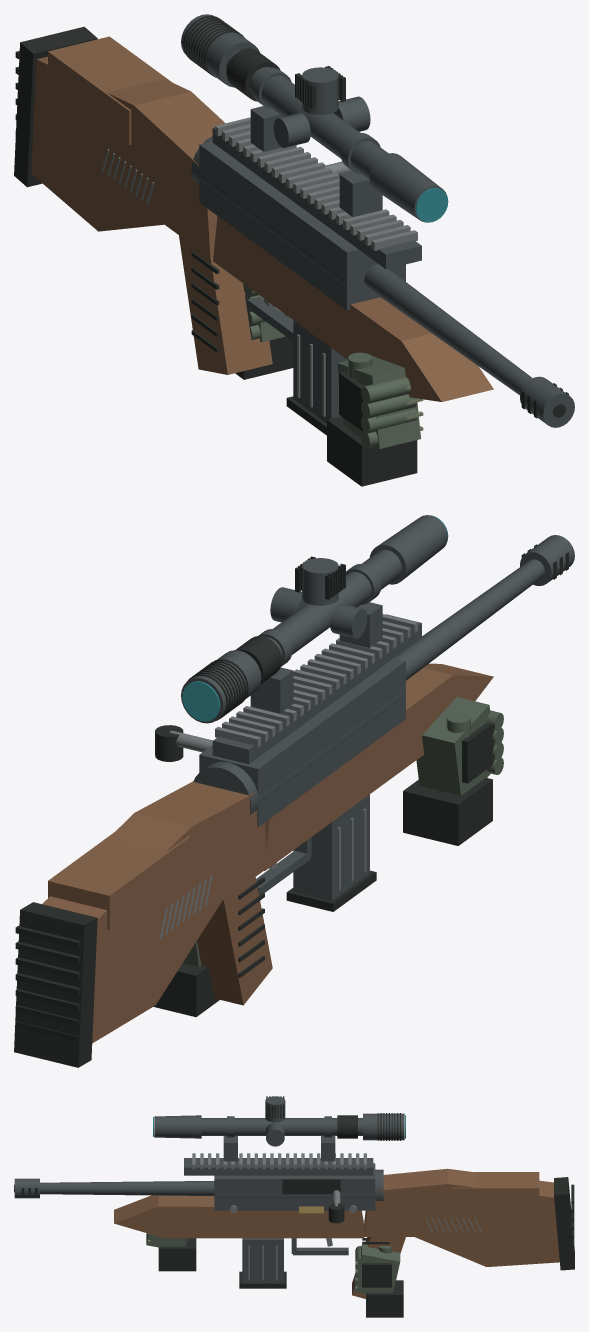
Rendered from ranger.glb.
3 views of the same model, one above another, from view 1: azimuth 30°, elevation 25°; view 2: azimuth 150°, elevation 25°; view 3: azimuth 270°, elevation 25° (orthographic). The views are drawn at different scales.
Parts seen in each view (by area): view 1: static_batch_0_3, static_batch_0_0, static_batch_102_0, static_batch_0_1, static_batch_154_6, static_batch_0_2, static_batch_154_2, magazine_body, static_batch_102_2, turret_elevation, zoom_ring, static_batch_141_2 (+5 smaller); view 2: static_batch_0_3, static_batch_0_0, static_batch_0_2, static_batch_102_0, static_batch_0_1, static_batch_154_2, static_batch_154_6, magazine_body, static_batch_141_2, static_batch_102_2, turret_elevation, lens_rear (+6 smaller); view 3: static_batch_0_3, static_batch_0_0, static_batch_102_0, static_batch_0_2, static_batch_0_1, static_batch_141_2, magazine_body, static_batch_141_6, static_batch_154_2, static_batch_102_2, zoom_ring, turret_elevation (+4 smaller).
Boxes of the visible parts, x1,y1,x2,y2 form: static_batch_0_3: (31,36,493,401); static_batch_0_0: (191,127,574,427); static_batch_102_0: (181,14,446,222); static_batch_0_1: (101,117,417,306); static_batch_154_6: (337,352,420,448); static_batch_0_2: (14,26,568,418); static_batch_154_2: (327,371,417,486); magazine_body: (293,320,347,423); static_batch_102_2: (183,15,345,109); turret_elevation: (302,67,338,115); zoom_ring: (226,48,280,101); static_batch_141_2: (235,336,293,379); static_batch_0_3: (42,663,493,1043); static_batch_0_0: (193,535,574,894); static_batch_0_2: (14,544,568,1067); static_batch_102_0: (181,515,447,723); static_batch_0_1: (160,614,417,938); static_batch_154_2: (403,723,494,845); static_batch_154_6: (416,697,503,795); magazine_body: (293,794,369,900); static_batch_141_2: (153,963,219,1017); static_batch_102_2: (187,556,345,720); turret_elevation: (302,558,338,605); lens_rear: (182,681,220,721); static_batch_0_3: (114,1168,559,1298); static_batch_0_0: (14,1158,383,1255); static_batch_102_0: (154,1113,404,1161); static_batch_0_2: (14,1177,574,1270); static_batch_0_1: (192,1153,481,1246); static_batch_141_2: (362,1263,403,1317); magazine_body: (242,1238,283,1282); static_batch_141_6: (354,1244,400,1293); static_batch_154_2: (158,1238,196,1271); static_batch_102_2: (266,1096,400,1140); zoom_ring: (337,1115,357,1138); turret_elevation: (265,1096,285,1122).
Bounding box in the file's own units: 0.198 × 0.398 × 1.01.
